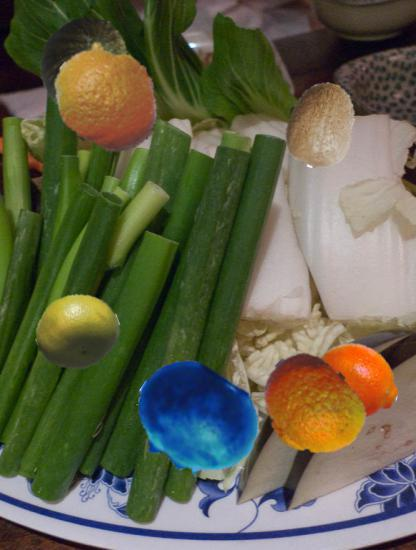Huckleberry: (132, 357, 259, 484)
Kiwi: (278, 82, 366, 170)
Mandarine: (51, 42, 165, 156), (257, 352, 366, 461)
Melon: (32, 17, 134, 119)
Pomelo: (35, 289, 121, 375)
Tangelo: (313, 339, 400, 426)
